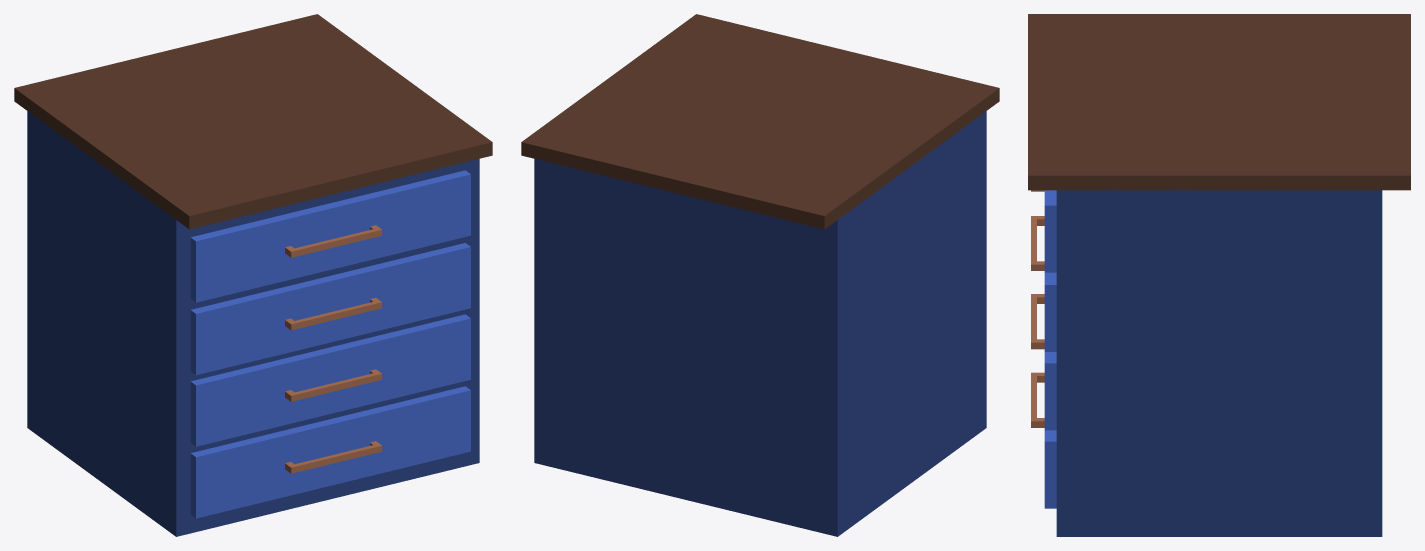
The model's file is drawer_2.fbx.
3 views of the same model, side by side, from view 1: azimuth 30°, elevation 25°; view 2: azimuth 150°, elevation 25°; view 3: azimuth 270°, elevation 25° (orthographic). The views are drawn at different scales.
Visible parts, largest first — view 1: Cube_5, Cube_4, Cube_1, Cube_4_2, Cube_6, Cube_2, Cube_3, Cube_5_2, Cube, Cube_7; view 2: Cube_5, Cube_4; view 3: Cube_5, Cube_4, Cube_1, Cube_2, Cube_6, Cube_4_2, Cube_5_2, Cube_7, Cube_3.
Part boxes in pixels (x1,y1,x2,y2): Cube_5: (27, 111, 479, 536); Cube_4: (14, 14, 492, 229); Cube_1: (190, 170, 470, 302); Cube_4_2: (190, 314, 470, 446); Cube_6: (190, 386, 470, 518); Cube_2: (190, 243, 470, 375); Cube_3: (285, 297, 381, 330); Cube_5_2: (285, 369, 381, 401); Cube: (285, 225, 381, 257); Cube_7: (285, 441, 381, 473); Cube_5: (534, 111, 986, 536); Cube_4: (521, 14, 999, 229); Cube_5: (1056, 190, 1382, 536); Cube_4: (1028, 14, 1410, 190); Cube_1: (1044, 190, 1056, 272); Cube_2: (1044, 272, 1056, 351); Cube_6: (1044, 430, 1056, 508); Cube_4_2: (1044, 352, 1056, 430); Cube_5_2: (1031, 294, 1044, 349); Cube_7: (1031, 372, 1044, 427); Cube_3: (1031, 216, 1044, 270).
Size of the model in its own units: 200 by 208 by 200.
